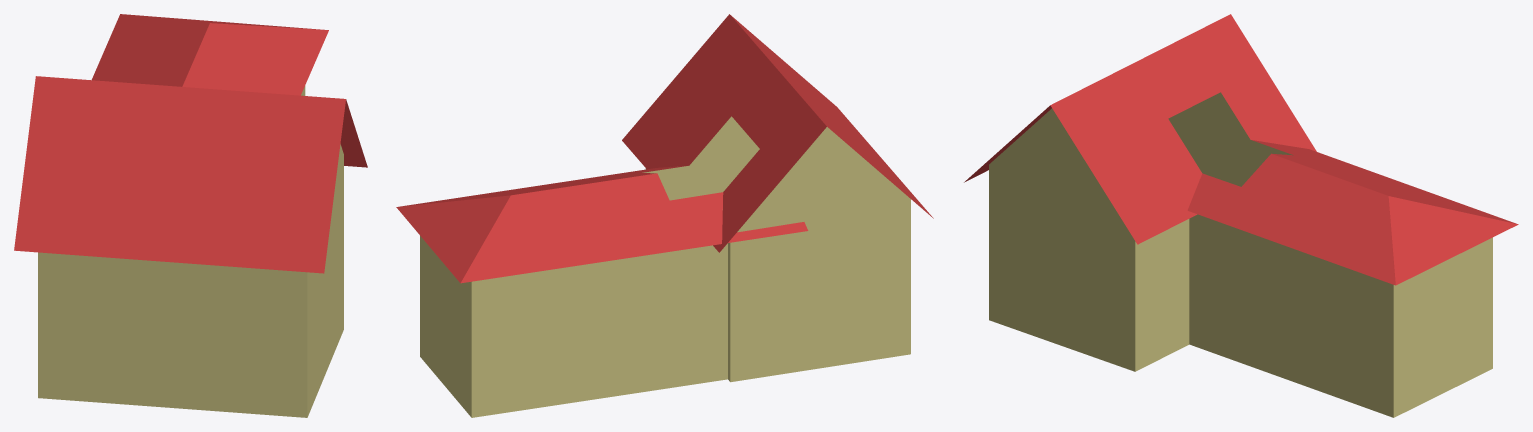
The picture shows the model from 3 angles, left to right: view 1: azimuth 30°, elevation 25°; view 2: azimuth 150°, elevation 25°; view 3: azimuth 270°, elevation 25°; orthographic projection. The views are drawn at different scales.
Parts seen in each view (by area): view 1: group_7, group_9, group_3, group_8, group_4; view 2: group_5, group_9, group_3, group_7, group_8, group_4; view 3: group_5, group_9, group_7, group_3, group_4, group_8.
Part boxes in pixels (x1,y1,x2,y2): group_7: (14,76,367,273); group_9: (38,144,343,417); group_3: (91,14,328,93); group_8: (14,77,366,272); group_4: (93,15,328,95); group_5: (420,168,804,417); group_9: (645,116,910,370); group_3: (396,165,807,283); group_7: (622,14,933,252); group_8: (622,16,931,250); group_4: (398,167,805,283); group_5: (1177,124,1492,417); group_9: (989,92,1242,371); group_7: (964,14,1316,243); group_3: (1193,140,1518,285); group_4: (1187,148,1515,285); group_8: (965,24,1315,244).
Bounding box in the file's own units: 19.17 × 22.63 × 11.09.
